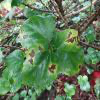Tomato Septoria leaf spot: (21, 41, 60, 90), (56, 28, 86, 75)
